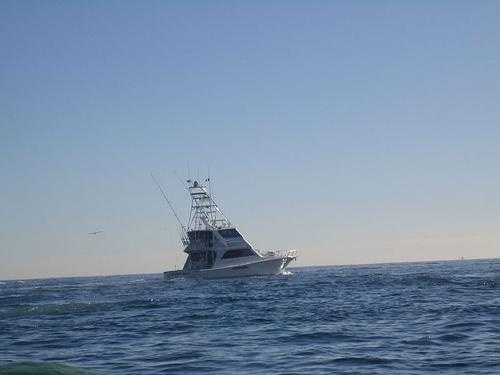boat: (164, 181, 298, 280)
